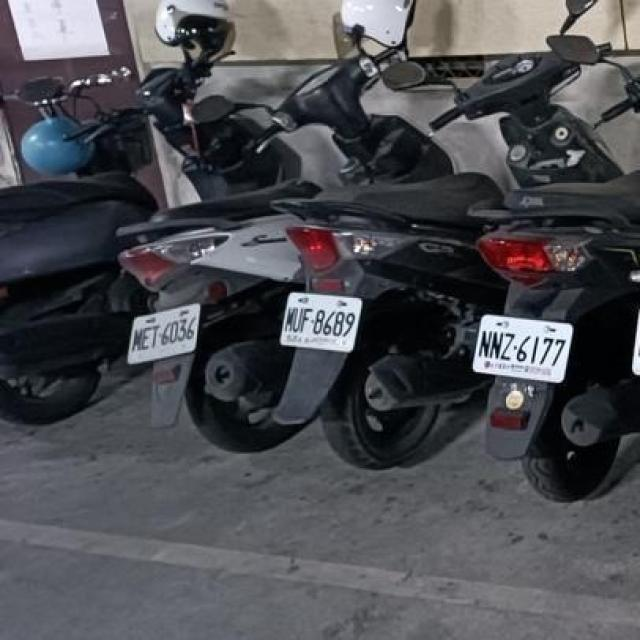W: (468, 304, 579, 388), (274, 282, 368, 358), (123, 296, 210, 371)
